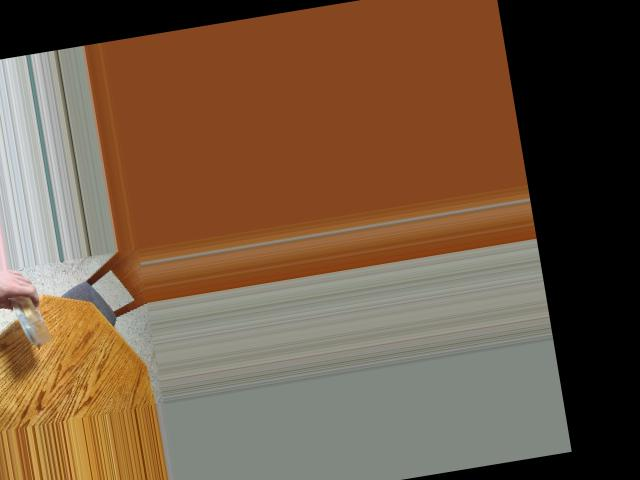cheese: (7, 291, 55, 342)
